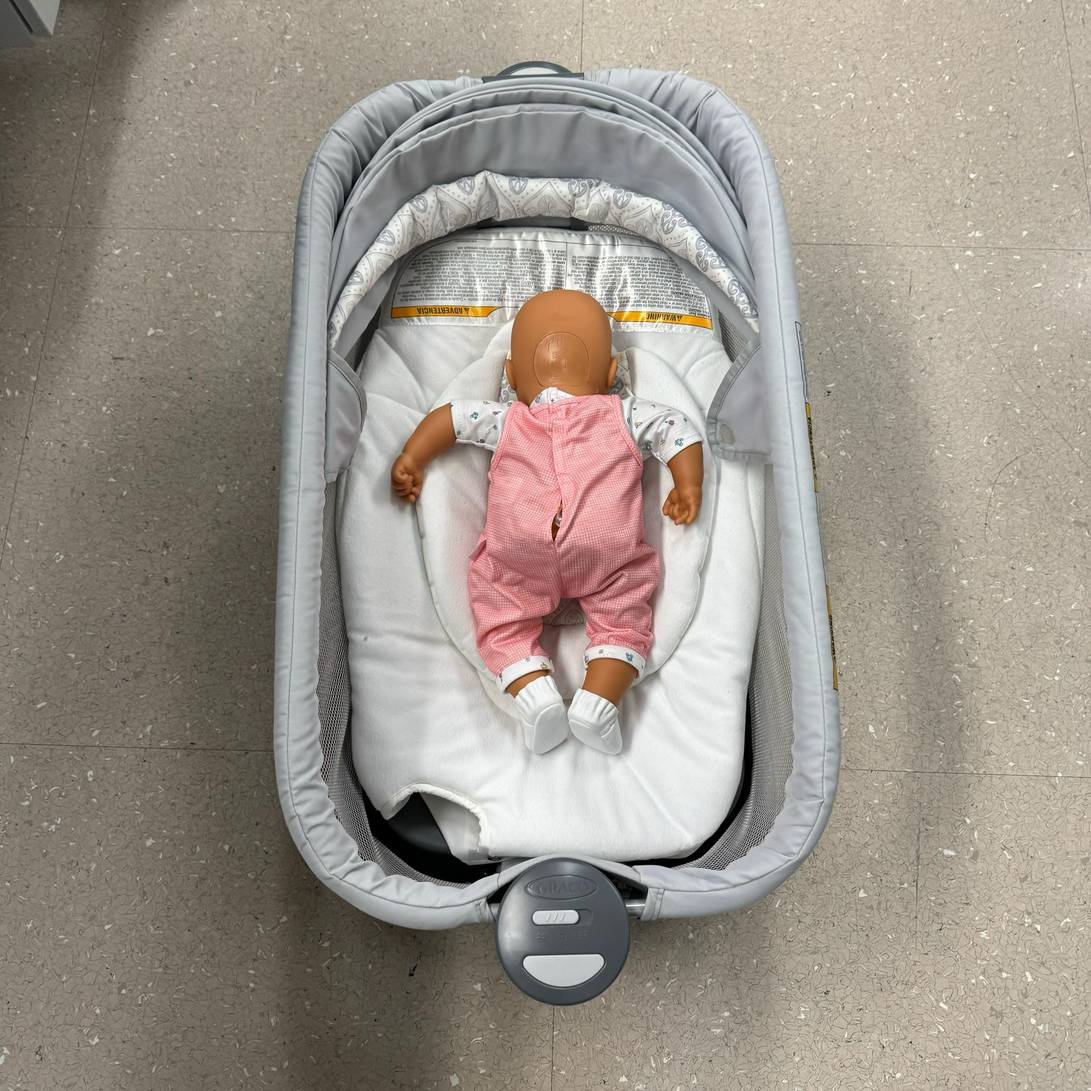baby: (386, 288, 726, 758)
